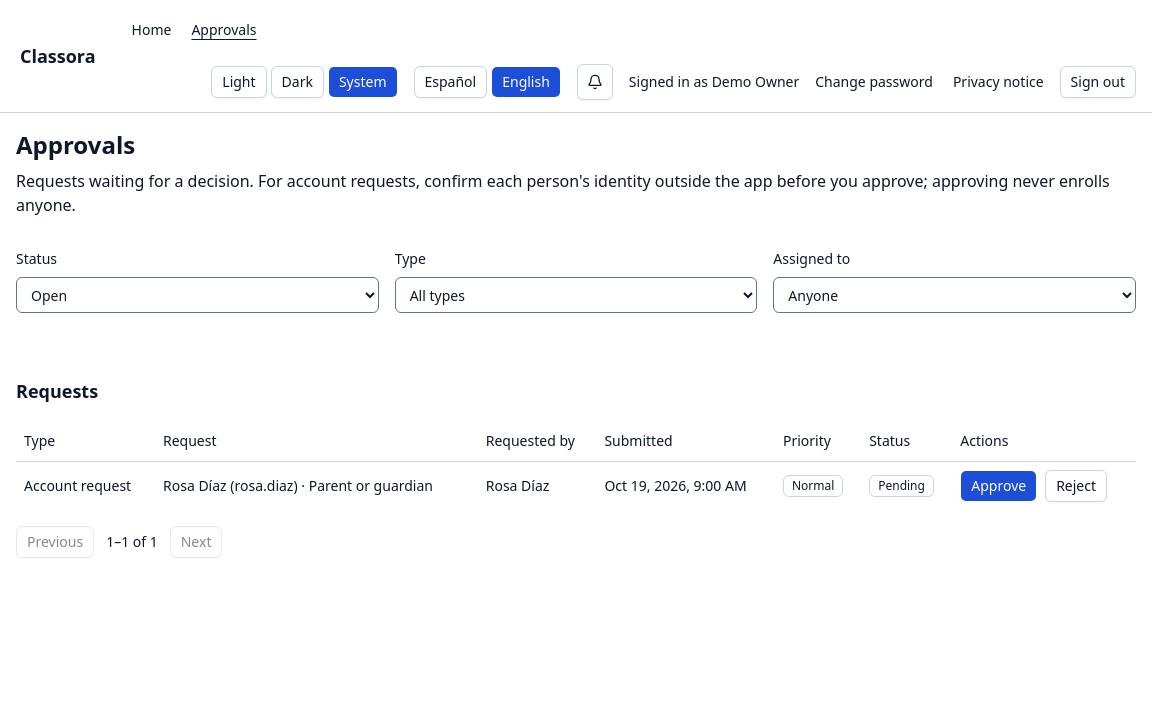
Test: decisions (F4) › cancel and Escape close the dialog without a request
Click the button "Approve". click: [999, 486]
box: 960,470 -> 1037,502
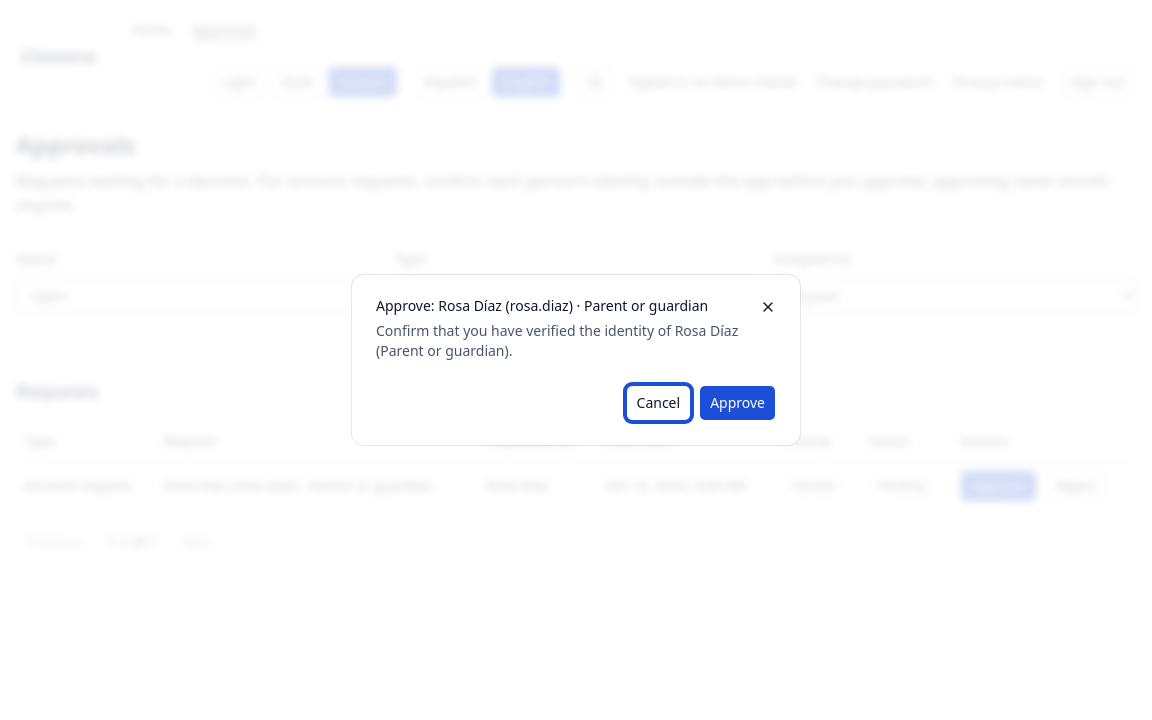
Click the button "Cancel". click: [658, 403]
box: 626,385 -> 691,421
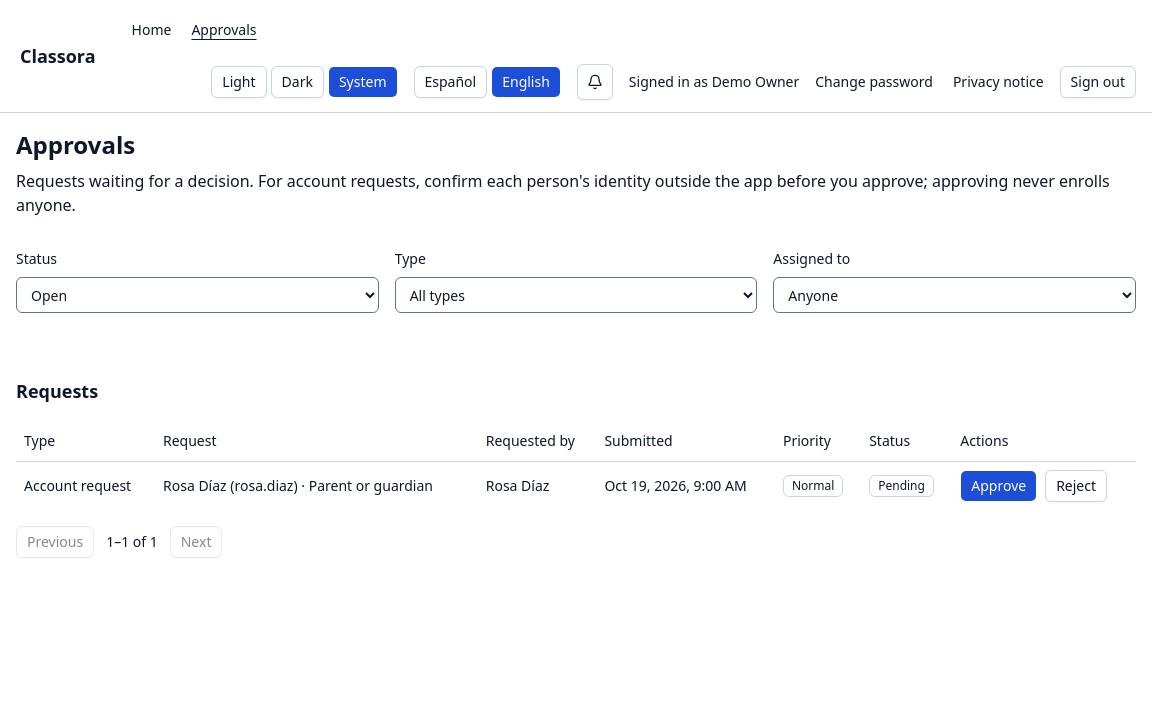
expect the dialog is gone: met
Click the button "Reject". click: [1076, 486]
box: 1045,470 -> 1107,502
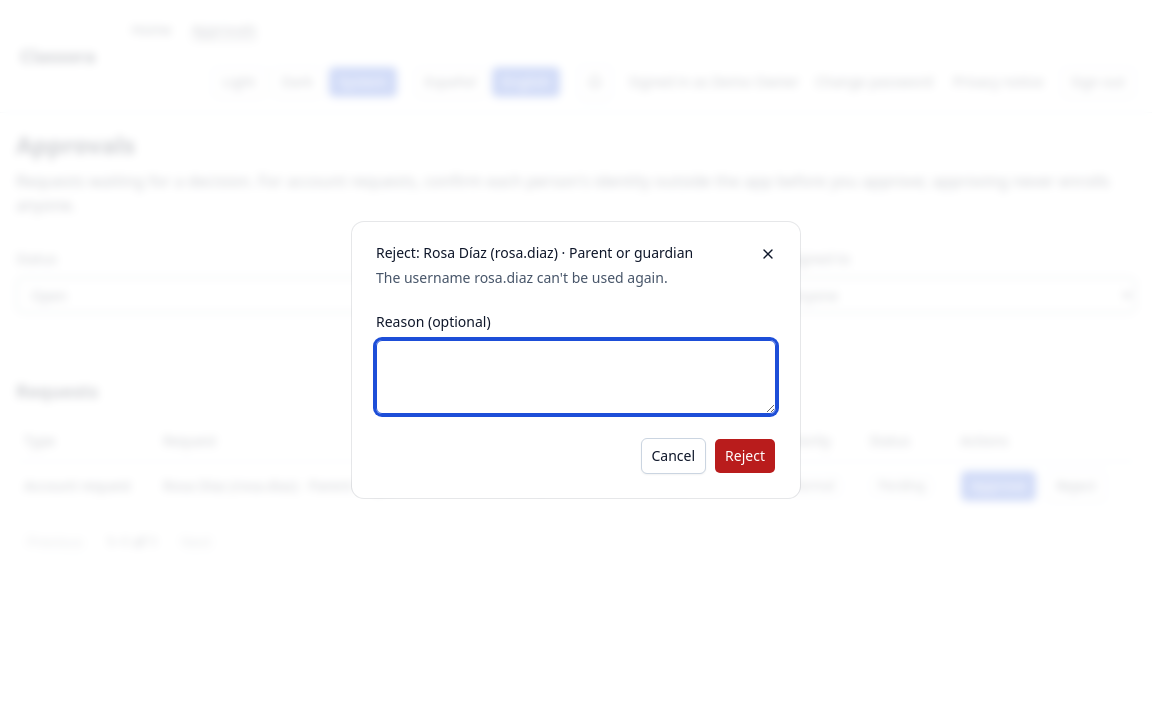
Press Escape in the text box labelled "Reason (optional)", box 376,340 -> 776,414
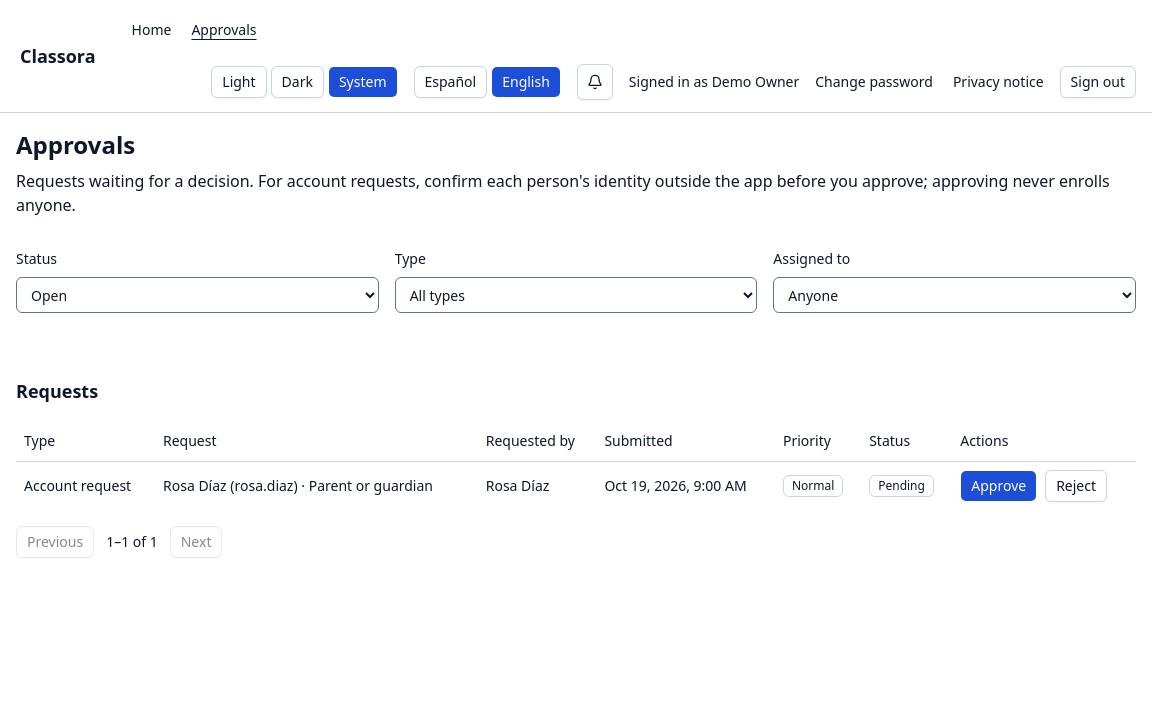
expect the dialog is gone: met
